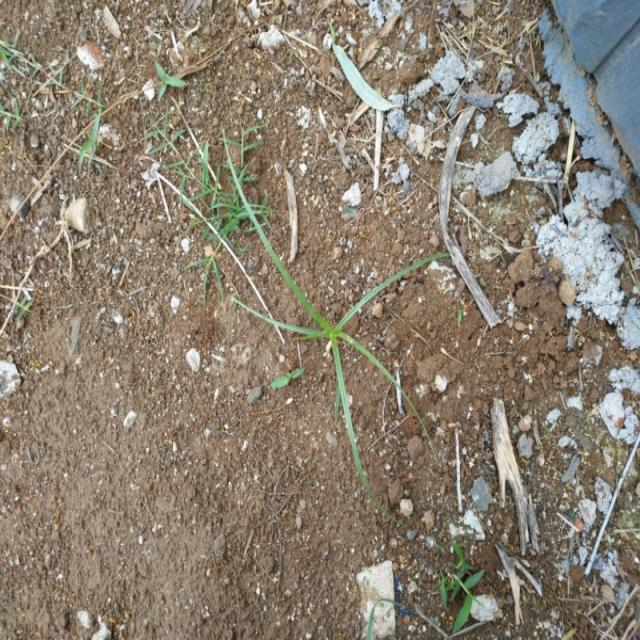sedge: (238, 203, 441, 484)
